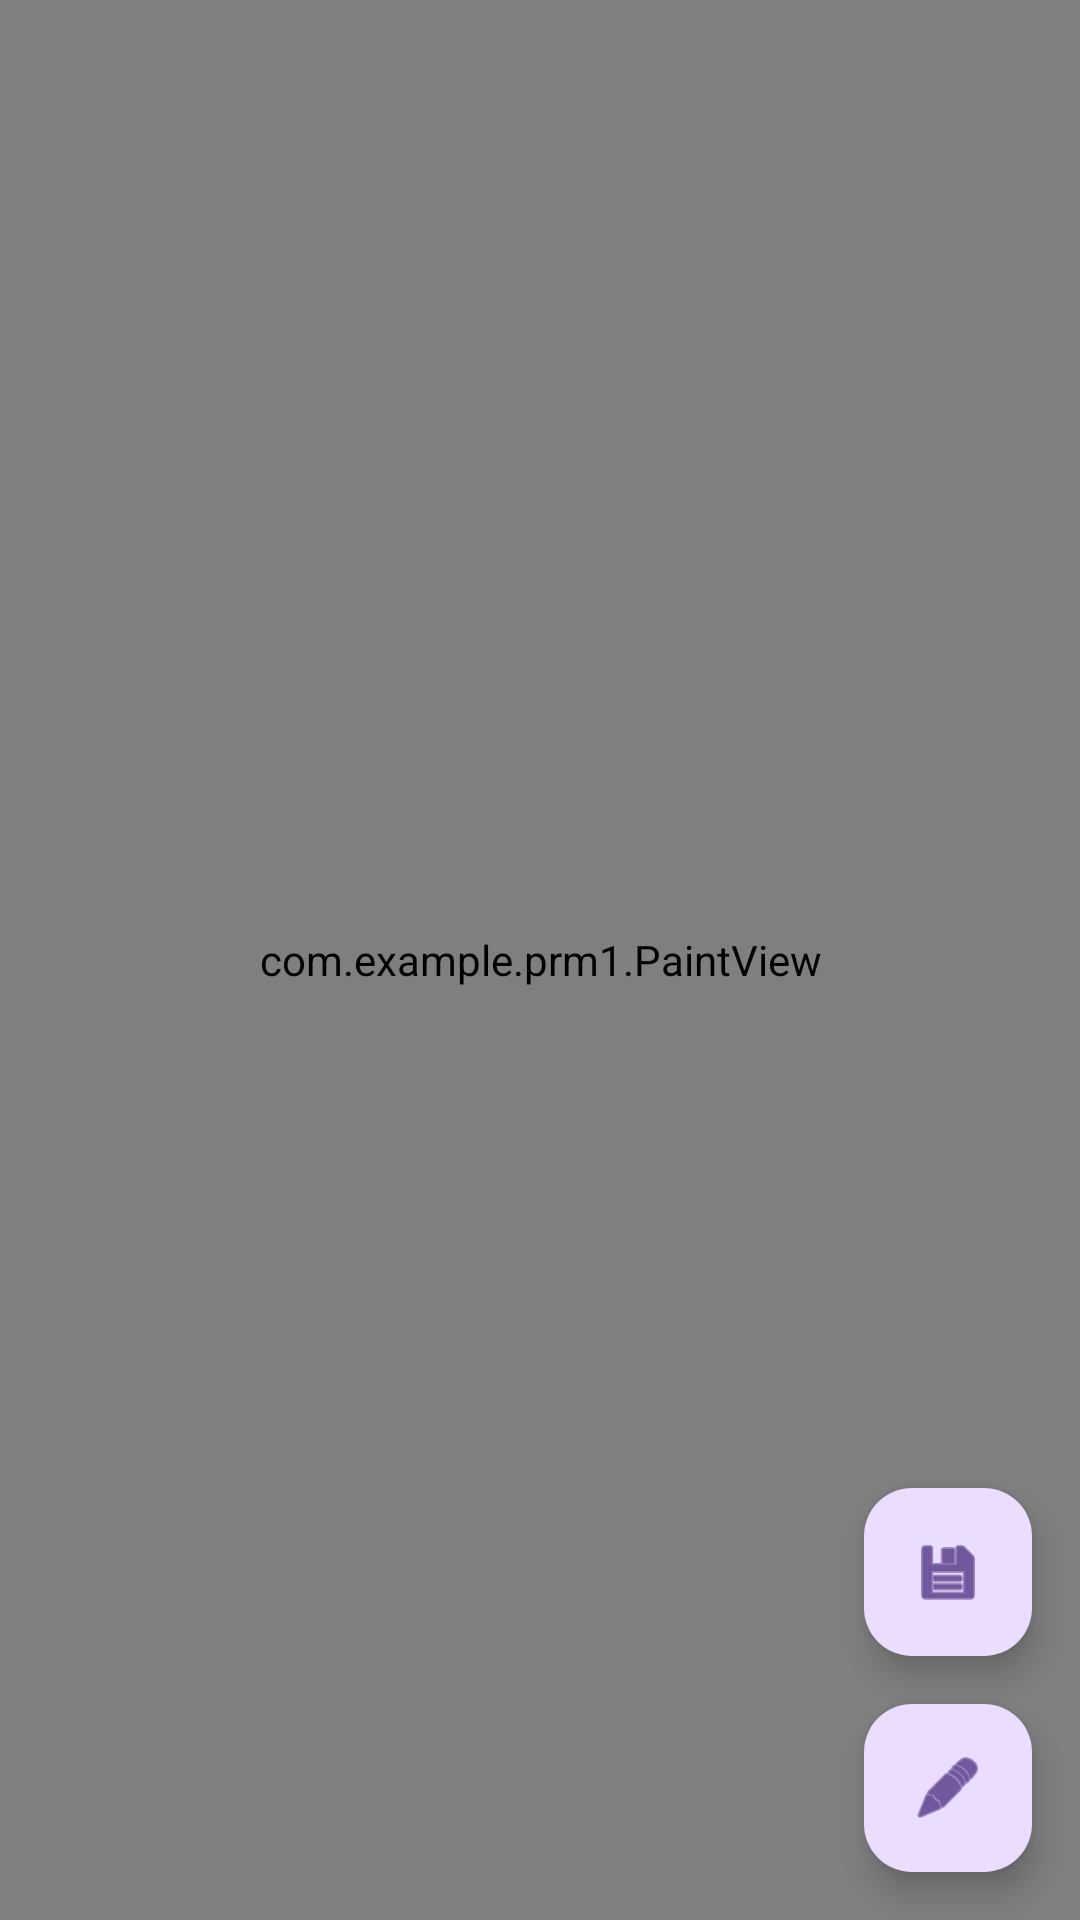

Named icons in this screenshot (1080×1920) and their bounding boxes, detection(x1, y1, x2, y2):
edit: detection(864, 1704, 1032, 1872)
save: detection(864, 1488, 1032, 1656)
